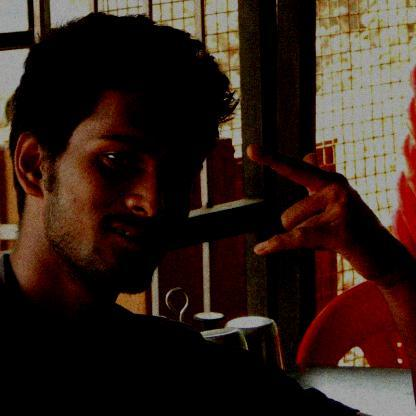without_mask: (61, 107, 197, 295)
